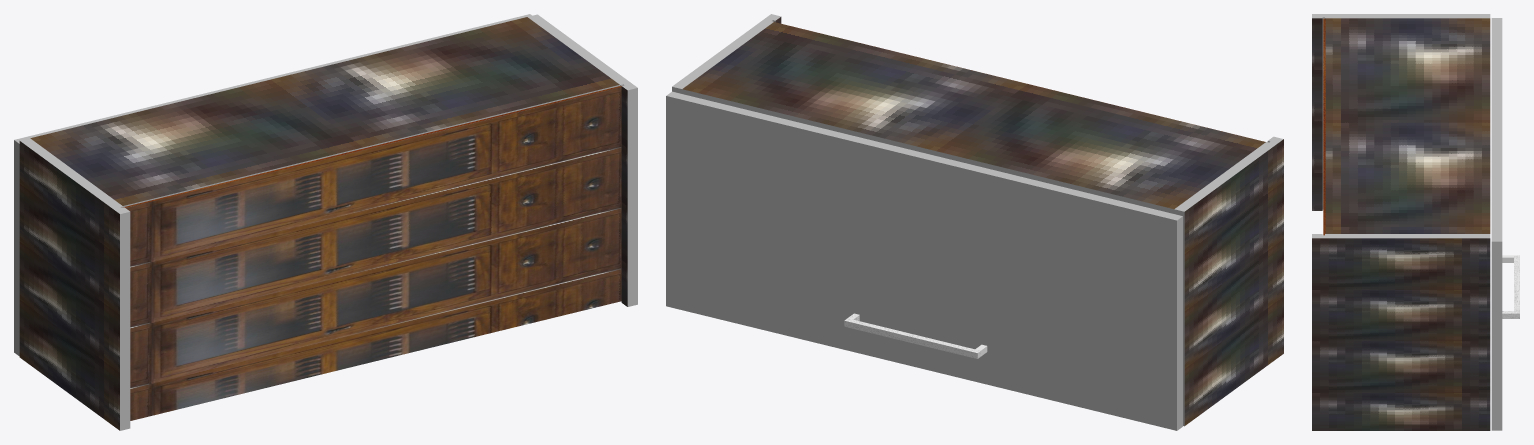
3 views of the same model, side by side, from view 1: azimuth 30°, elevation 25°; view 2: azimuth 150°, elevation 25°; view 3: azimuth 270°, elevation 25° (orthographic). The views are drawn at different scales.
Parts seen in each view (by area): view 1: mesh1_mesh1-geometry, mesh15_mesh15-geometry, mesh3_mesh3-geometry, mesh11_mesh11-geometry, mesh18_mesh18-geometry; view 2: mesh18_mesh18-geometry, mesh15_mesh15-geometry, mesh3_mesh3-geometry, mesh21_mesh21-geometry, mesh11_mesh11-geometry; view 3: mesh15_mesh15-geometry, mesh11_mesh11-geometry, mesh18_mesh18-geometry, mesh3_mesh3-geometry, mesh1_mesh1-geometry, mesh21_mesh21-geometry.
Boxes of the visible parts, left/top/right/bottom form: mesh1_mesh1-geometry: left=123, top=86, right=621, bottom=420; mesh15_mesh15-geometry: left=30, top=17, right=619, bottom=206; mesh3_mesh3-geometry: left=19, top=138, right=130, bottom=430; mesh11_mesh11-geometry: left=528, top=14, right=637, bottom=306; mesh18_mesh18-geometry: left=14, top=14, right=531, bottom=356; mesh18_mesh18-geometry: left=666, top=91, right=1182, bottom=430; mesh15_mesh15-geometry: left=682, top=22, right=1265, bottom=213; mesh3_mesh3-geometry: left=1174, top=136, right=1283, bottom=426; mesh21_mesh21-geometry: left=844, top=318, right=980, bottom=358; mesh11_mesh11-geometry: left=672, top=14, right=781, bottom=93; mesh15_mesh15-geometry: left=1325, top=18, right=1490, bottom=233; mesh11_mesh11-geometry: left=1312, top=234, right=1490, bottom=430; mesh18_mesh18-geometry: left=1491, top=18, right=1502, bottom=430; mesh3_mesh3-geometry: left=1312, top=14, right=1490, bottom=210; mesh1_mesh1-geometry: left=1323, top=18, right=1325, bottom=235; mesh21_mesh21-geometry: left=1514, top=255, right=1519, bottom=318.
Bounding box in the file's own units: 0.8727 × 0.3491 × 0.3413.
